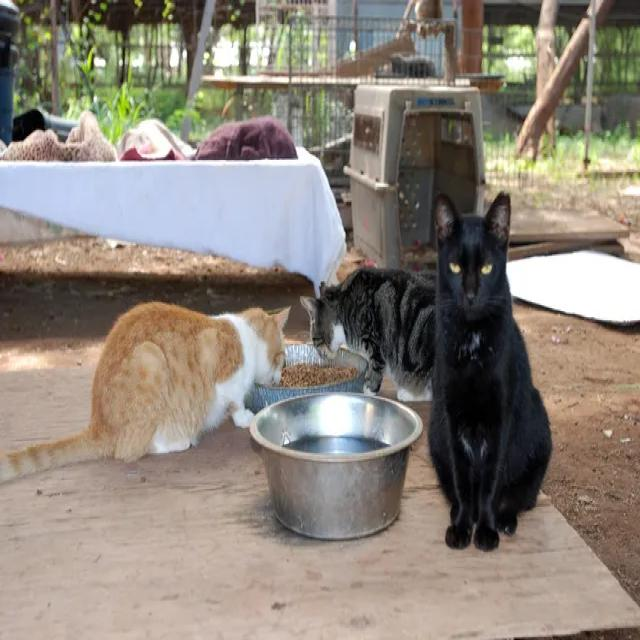cat: (0, 303, 289, 481), (430, 193, 551, 550), (301, 267, 435, 399)
